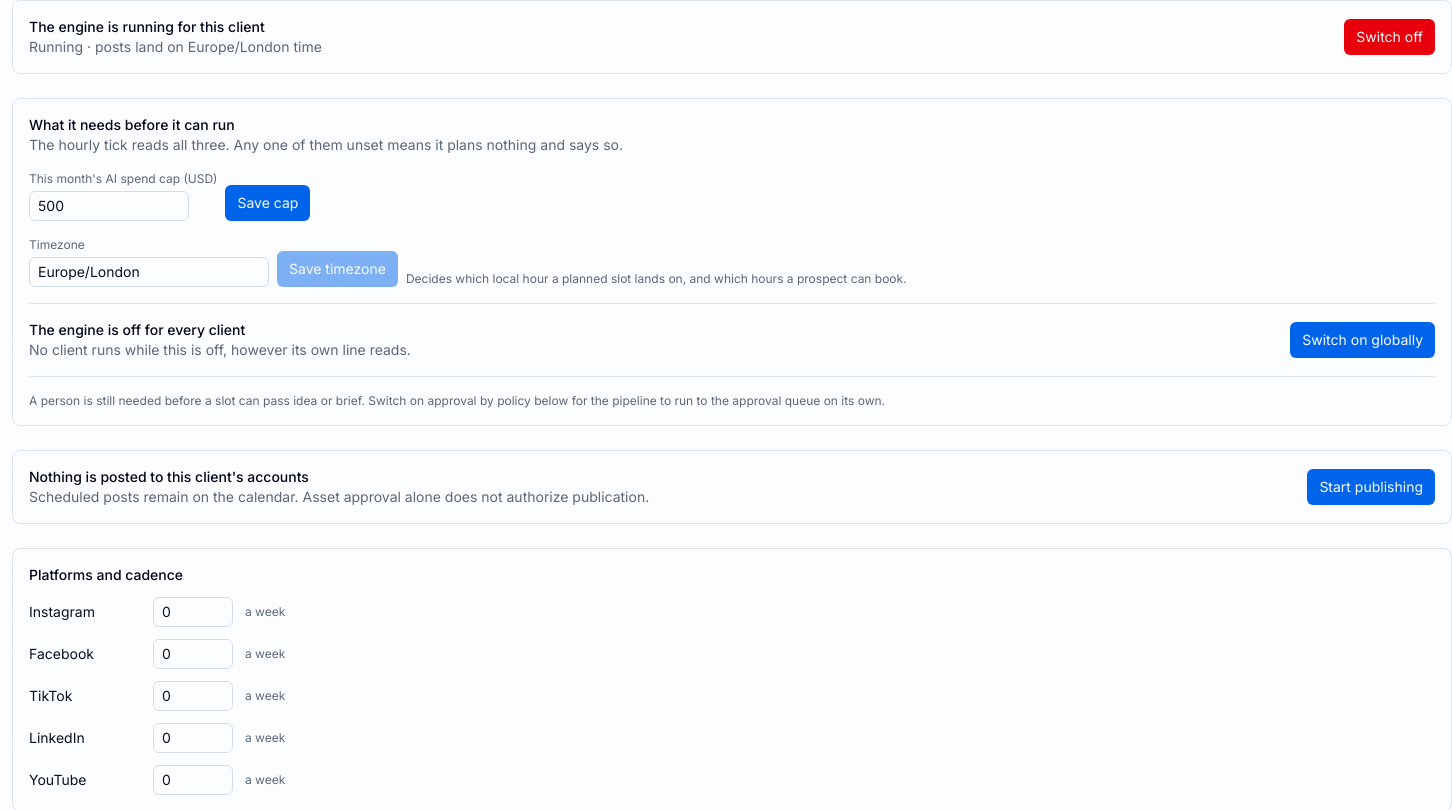
the second switch › turns publishing on for this client and says the runtime must agree
The width and height of the screenshot is (1452, 810).
Click the button "Start publishing".
click(1371, 487)  # box x1=1307 y1=469 x2=1435 y2=505
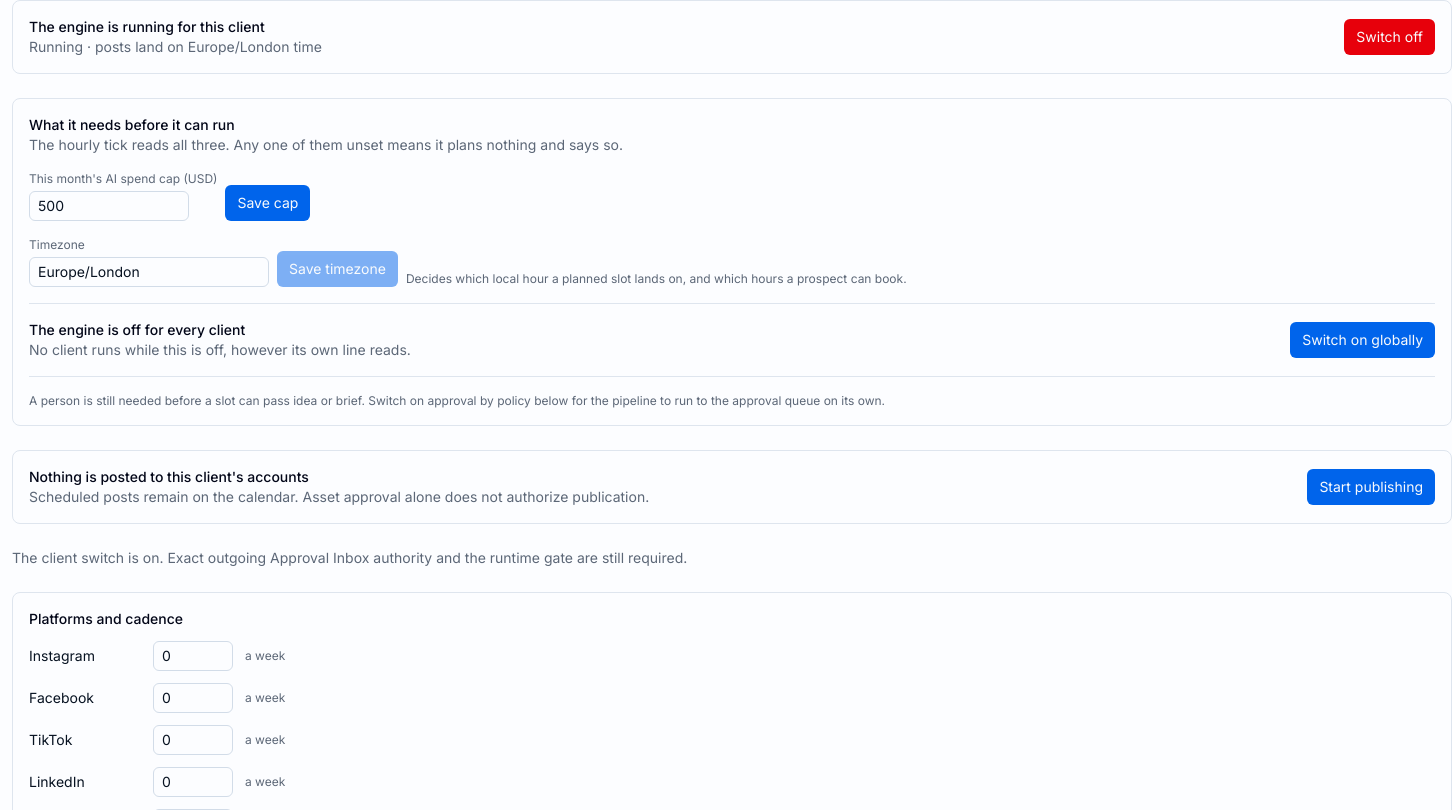
Check: the text "Exact outgoing Approval Inbox authority" is shown, box x1=12 y1=549 x2=687 y2=566
